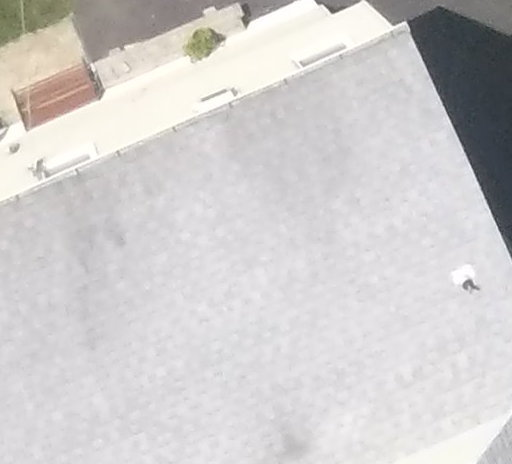bench: (12, 52, 103, 135)
container: (189, 24, 222, 56)
flower pot: (182, 23, 222, 64)
